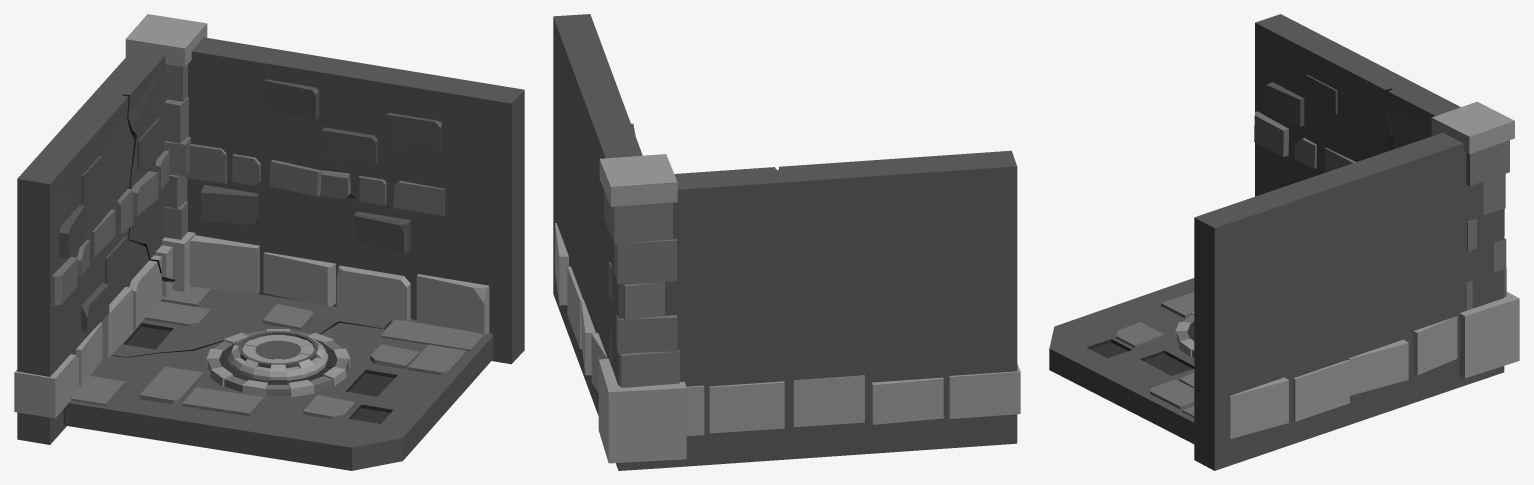
3 renders of one model, left to right at view 1: azimuth 30°, elevation 25°; view 2: azimuth 150°, elevation 25°; view 3: azimuth 270°, elevation 25°, orthographic. The views are drawn at different scales.
Visible parts, largest first — view 1: Scene object 2, SceneObject, Scene object 3; view 2: Scene object 2; view 3: Scene object 2, SceneObject, Scene object 3.
Boxes of the visible parts, x1,y1,x2,y2 form: Scene object 2: (14,14,524,444); SceneObject: (63,281,493,470); Scene object 3: (205,329,350,397); Scene object 2: (553,14,1020,470); Scene object 2: (1194,14,1519,470); SceneObject: (1049,278,1194,443); Scene object 3: (1175,312,1194,357).
Bounding box in the file's own units: 8.54 × 4.65 × 7.87.
